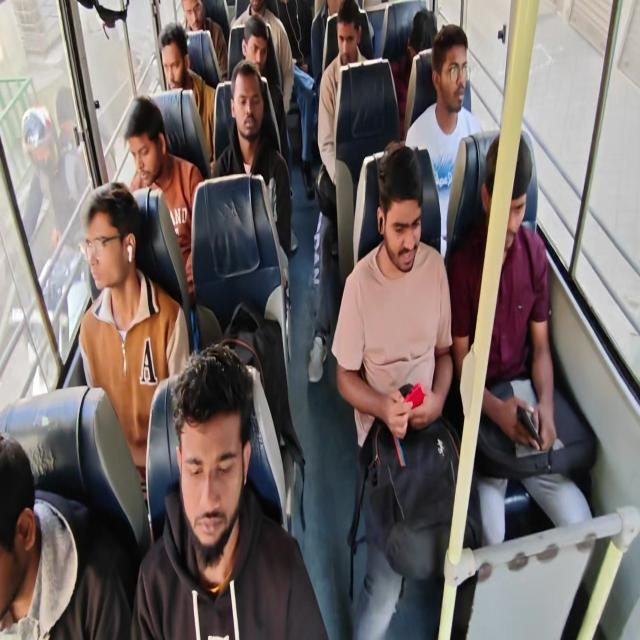person: (151, 349, 286, 572), (71, 197, 194, 342), (352, 154, 453, 316), (118, 86, 216, 229), (0, 417, 54, 640), (470, 117, 544, 268), (157, 24, 213, 132), (228, 73, 273, 159), (236, 14, 291, 78), (175, 0, 238, 44), (316, 0, 376, 44), (431, 37, 465, 112), (333, 2, 371, 60), (407, 12, 440, 60), (237, 0, 274, 24)
